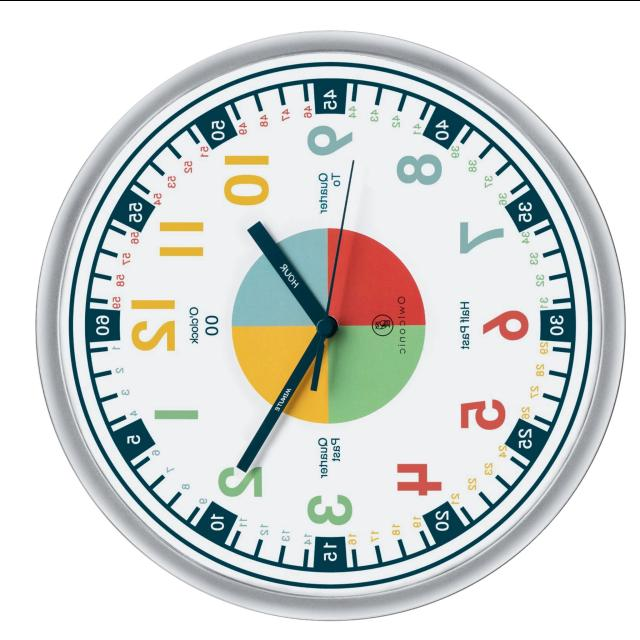clock: (4, 45, 636, 636), (126, 169, 640, 640)
